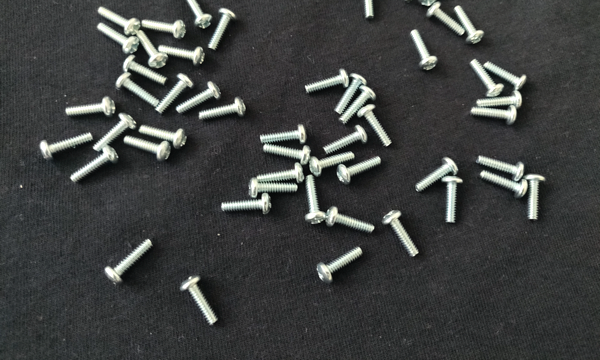shortscrew: (104, 238, 153, 286), (180, 274, 218, 326), (71, 145, 120, 182), (383, 211, 420, 258), (317, 247, 363, 284), (94, 113, 137, 152), (116, 73, 160, 108), (156, 74, 194, 114), (39, 134, 93, 162), (358, 105, 393, 148), (415, 158, 459, 192), (340, 86, 377, 125), (177, 81, 221, 113), (322, 125, 368, 155), (96, 23, 139, 55), (335, 73, 367, 115), (336, 156, 382, 185), (470, 59, 504, 98), (326, 207, 375, 234), (124, 55, 168, 85), (96, 7, 141, 36), (427, 2, 465, 36), (485, 62, 528, 92), (481, 171, 528, 198), (476, 156, 526, 181), (209, 8, 237, 52), (64, 97, 116, 120), (309, 151, 355, 177), (456, 5, 485, 46), (137, 31, 169, 68), (125, 137, 170, 163), (411, 29, 438, 72), (221, 194, 272, 216), (304, 175, 326, 226), (199, 97, 247, 120), (305, 69, 349, 94), (140, 126, 187, 149), (523, 174, 546, 221), (248, 178, 299, 199), (158, 45, 204, 67), (257, 163, 305, 184), (264, 145, 312, 166), (140, 20, 186, 41), (260, 124, 308, 144), (443, 177, 463, 224), (182, 0, 213, 30), (471, 106, 518, 125), (477, 90, 523, 107), (358, 0, 378, 21), (418, 0, 436, 8), (396, 0, 415, 3)
